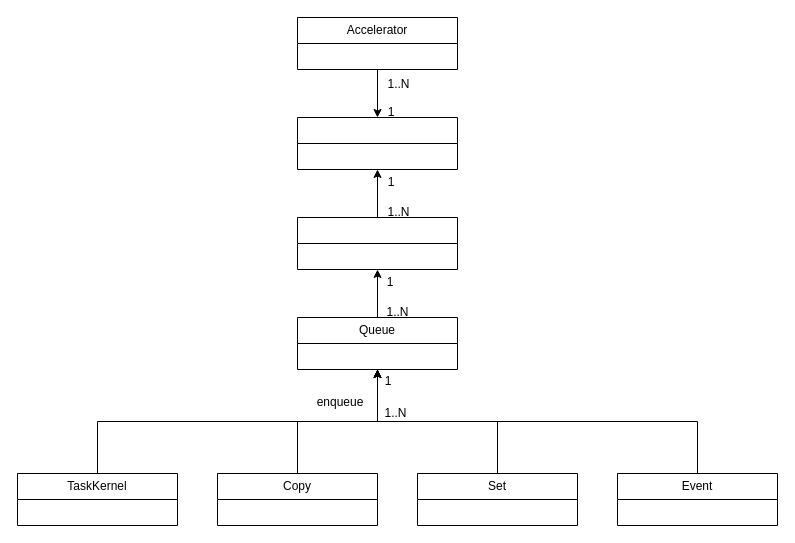
The diagram is 795 pixels wide and 543 high, and some of its shapes have lost their labels. Here are the shapes that lost their labels. From the top down, the centre of each, then its label:
(377,143): Platform
(377,243): Device
